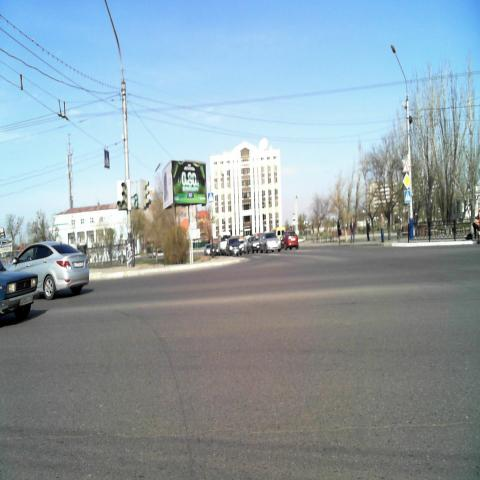1_11_1: (403, 161, 410, 174)
2_1: (402, 174, 411, 190)
5_19_1: (104, 150, 110, 168), (405, 190, 412, 204), (207, 190, 213, 204)
